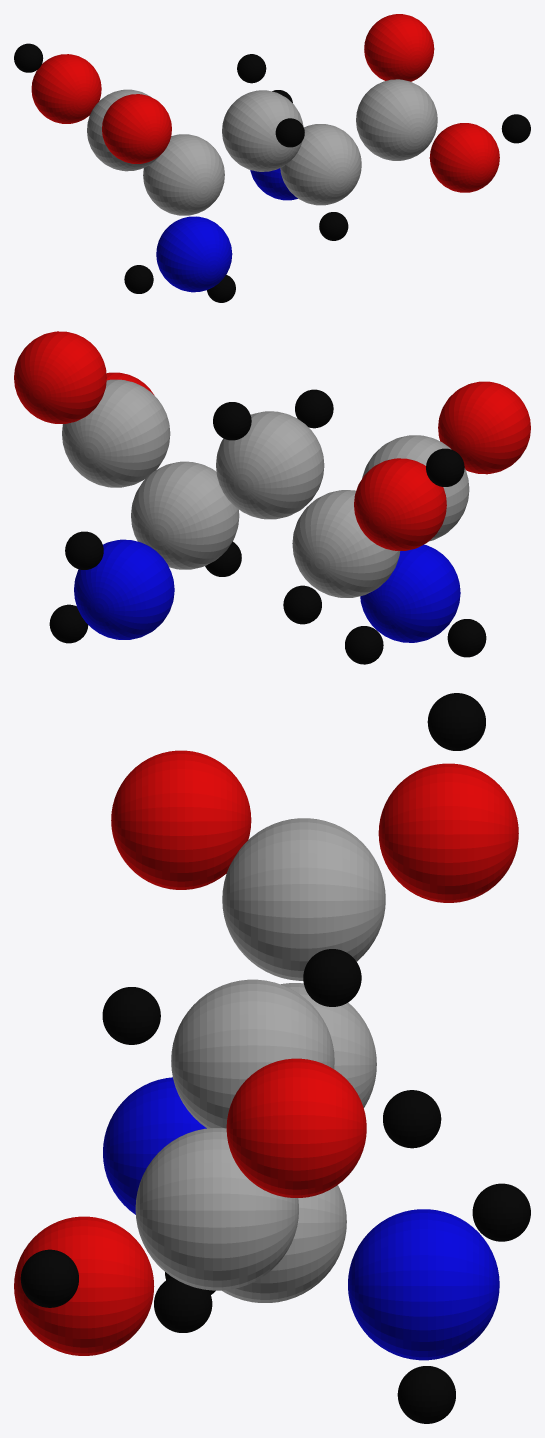
File: Glutamine.glb
3 views of the same model, one above another, from view 1: azimuth 30°, elevation 25°; view 2: azimuth 150°, elevation 25°; view 3: azimuth 270°, elevation 25° (orthographic). The views are drawn at different scales.
Visible parts, largest first — view 1: world; view 2: world; view 3: world.
Boxes of the visible parts, x1=… form: world: x1=14, y1=14, x2=530, y2=302; world: x1=14, y1=331, x2=530, y2=664; world: x1=14, y1=693, x2=530, y2=1423.
Size of the model in its own units: 8.12 by 4.52 by 4.43.
